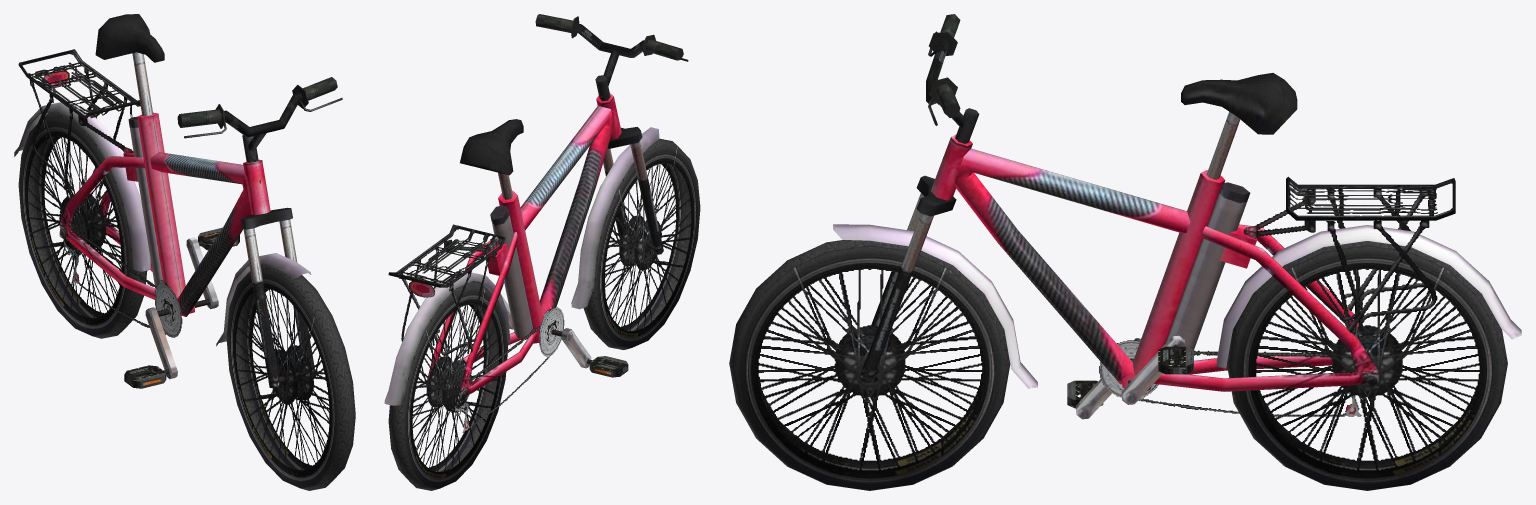
Rendered from bike-4.FBX.
3 renders of one model, left to right at view 1: azimuth 30°, elevation 25°; view 2: azimuth 150°, elevation 25°; view 3: azimuth 270°, elevation 25°, orthographic. The views are drawn at different scales.
Parts seen in each view (by area): view 1: bicycle-4_LOD0, F_Wheel_LOD0, R_Wheel_LOD0; view 2: bicycle-4_LOD0, F_Wheel_LOD0, R_Wheel_LOD0; view 3: bicycle-4_LOD0, F_Wheel_LOD0, R_Wheel_LOD0.
Boxes of the visible parts, left/top/right/bottom form: bicycle-4_LOD0: left=14, top=14, right=342, bottom=388; F_Wheel_LOD0: left=226, top=263, right=355, bottom=490; R_Wheel_LOD0: left=18, top=111, right=147, bottom=338; bicycle-4_LOD0: left=384, top=14, right=688, bottom=432; F_Wheel_LOD0: left=583, top=138, right=700, bottom=349; R_Wheel_LOD0: left=388, top=280, right=508, bottom=490; bicycle-4_LOD0: left=833, top=14, right=1521, bottom=419; F_Wheel_LOD0: left=729, top=240, right=1010, bottom=490; R_Wheel_LOD0: left=1227, top=241, right=1507, bottom=490.
Size of what is drawn, in the model's own units: 20.63 by 45.44 by 74.81.
